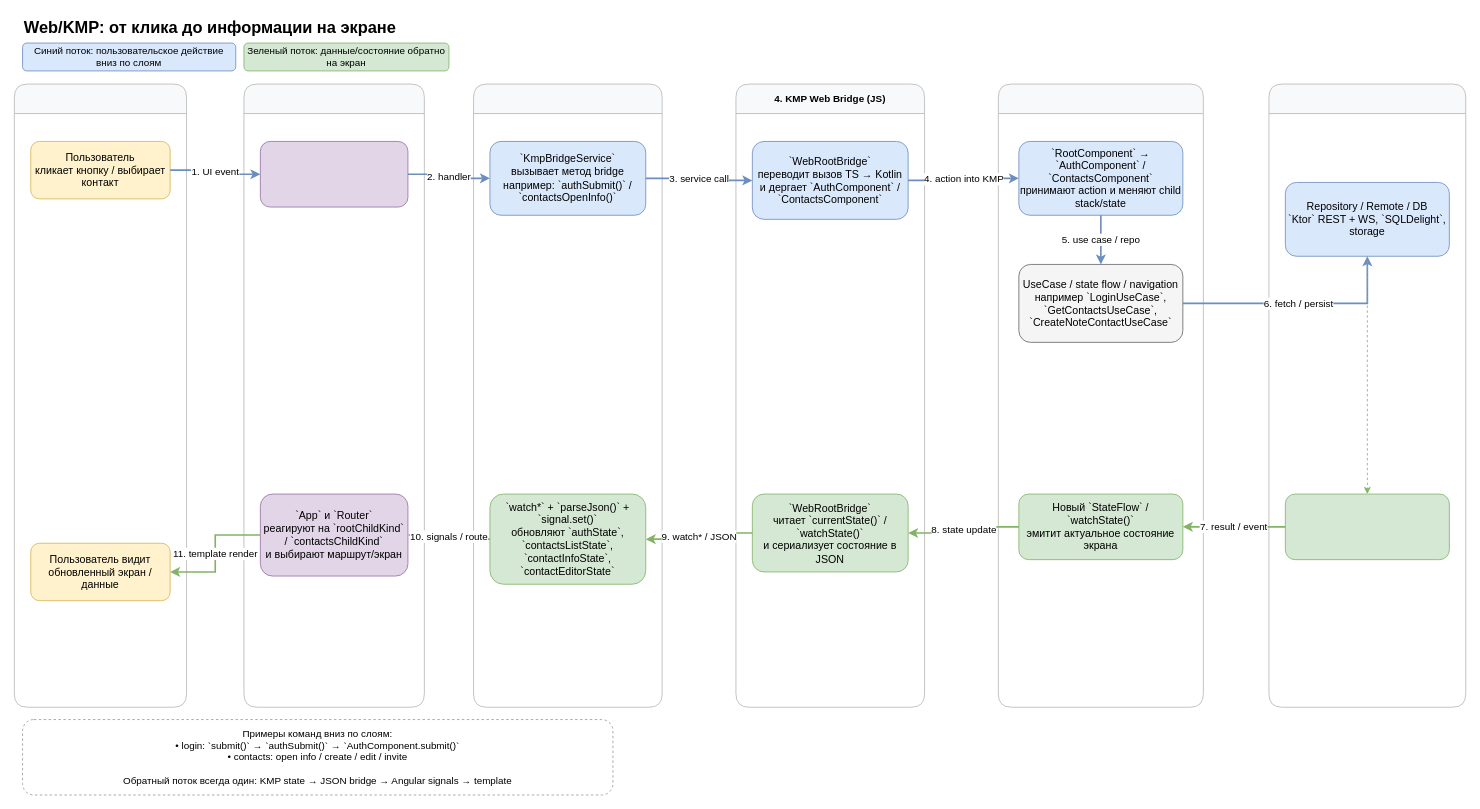
Some shapes in this 1480 by 809 pixel diagram are drawn without their labels. The shapes that lost their labels are listed below. From the top down, each one's box as (x1, y1, x2, y2) in pixels, then its label:
(260, 141, 408, 207): `FeatureAuth` / `FeatureContacts` обрабатывают DOM event (click/input/select)
(14, 83, 187, 707): 1. UI / Browser
(243, 83, 424, 707): 2. Angular Feature Layer
(473, 83, 662, 707): 3. Angular Bridge Facade
(998, 83, 1203, 707): 5. Shared KMP Logic
(1268, 83, 1466, 707): 6. Data / Backend
(1285, 493, 1449, 560): Backend / local source возвращает данные / ошибку / событие
